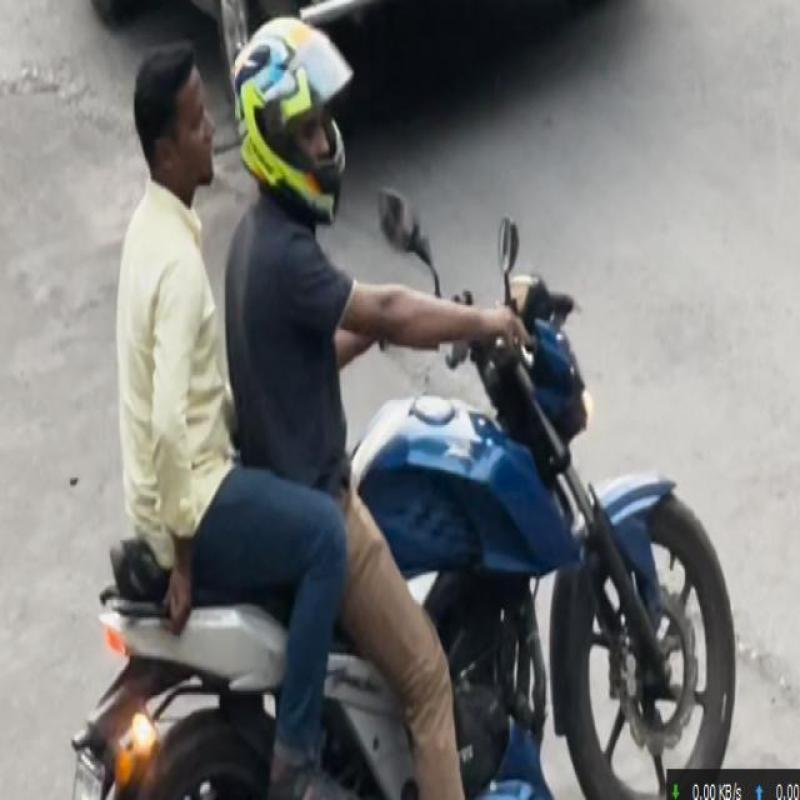nohelmet: (118, 28, 237, 213)
